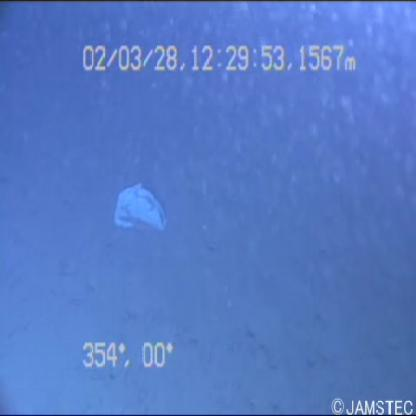Rác: (99, 168, 180, 236)
